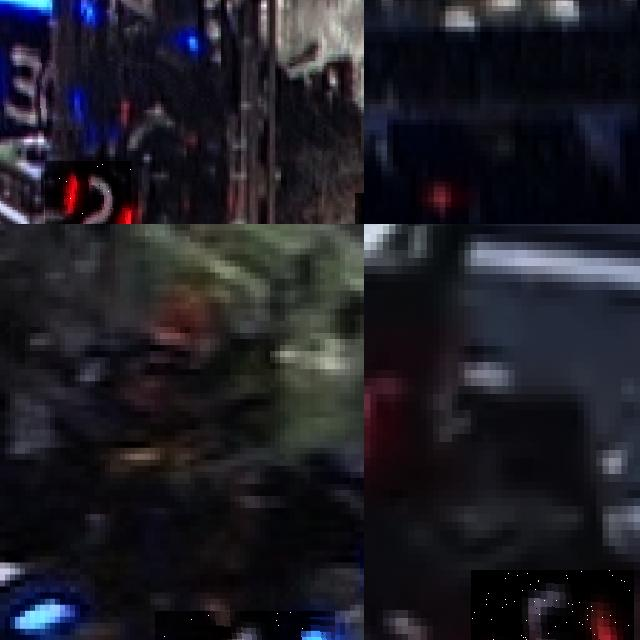B1: (155, 610, 335, 640)
B3: (0, 45, 88, 130)
R2: (45, 161, 130, 224)
R5: (471, 570, 634, 640)
